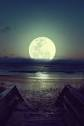moon: (28, 36, 56, 64)
